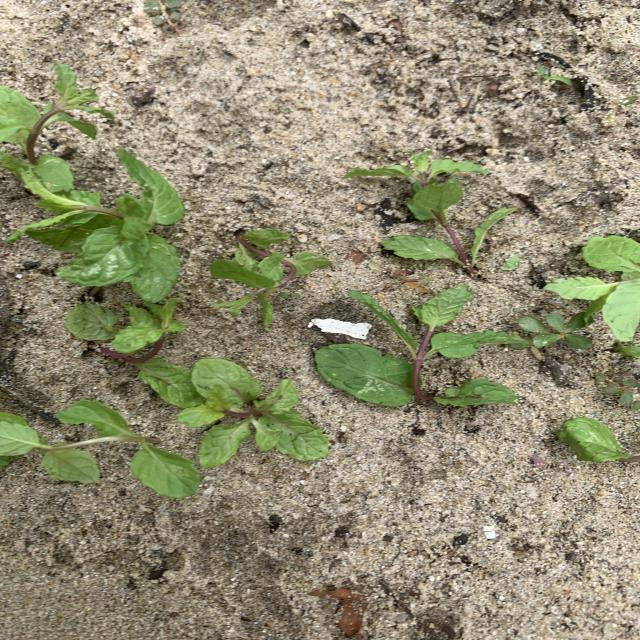crop: (0, 65, 184, 309), (316, 287, 521, 405), (176, 359, 327, 466), (57, 400, 199, 497), (382, 174, 514, 274), (65, 299, 190, 400), (209, 230, 331, 324), (544, 236, 639, 340), (0, 412, 99, 483), (346, 151, 487, 192), (559, 418, 639, 462)
weed: (514, 313, 591, 357), (310, 586, 367, 638), (603, 375, 639, 408), (380, 581, 412, 618), (144, 0, 182, 26), (537, 65, 572, 86), (211, 299, 249, 315), (502, 255, 519, 270), (280, 292, 299, 299)
